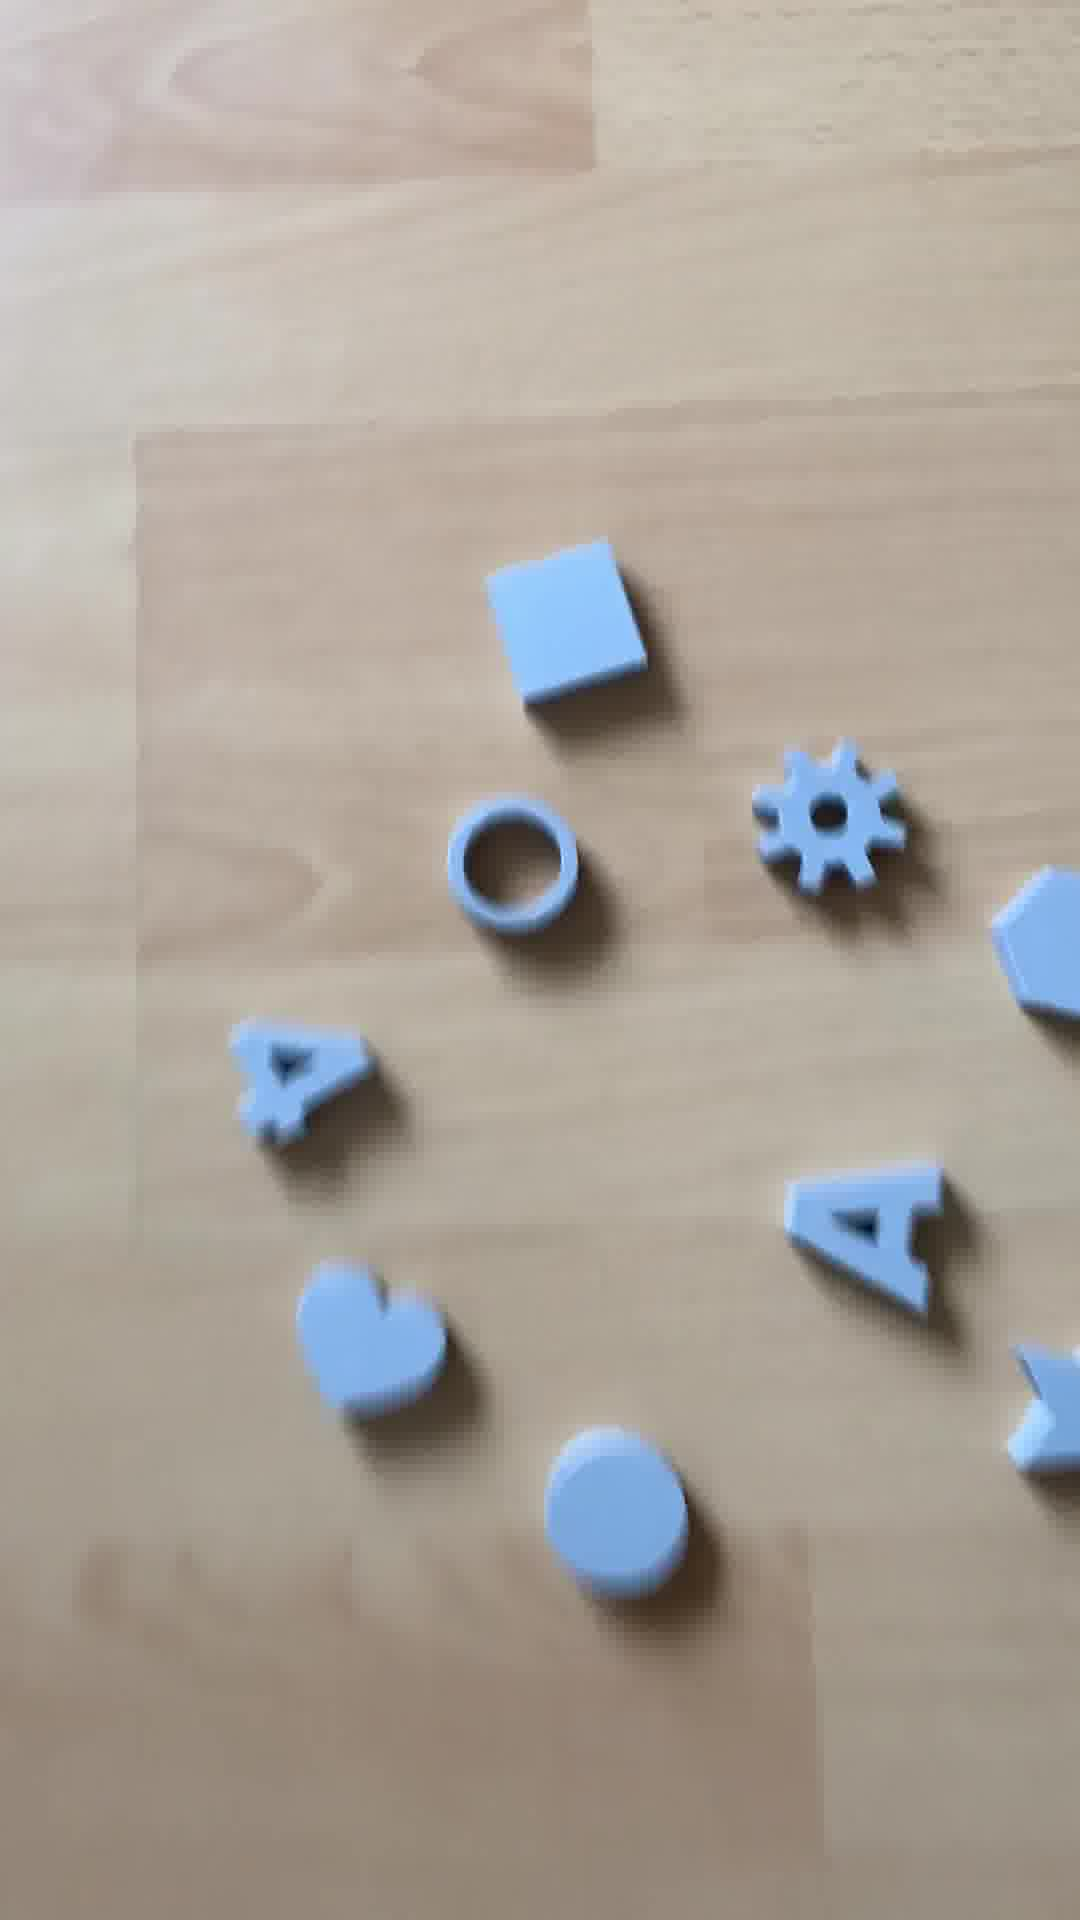Gray A-letter: (771, 1155, 956, 1316)
Gray circle: (525, 1412, 702, 1622)
Gray four: (222, 997, 384, 1166)
Gray gear: (738, 750, 907, 903)
Gray heart: (298, 1254, 468, 1440)
Gray hexagon: (967, 844, 1080, 1054)
Gray ring: (455, 787, 584, 928)
Gray square: (487, 538, 640, 688)
Gray star: (1004, 1320, 1080, 1506)
